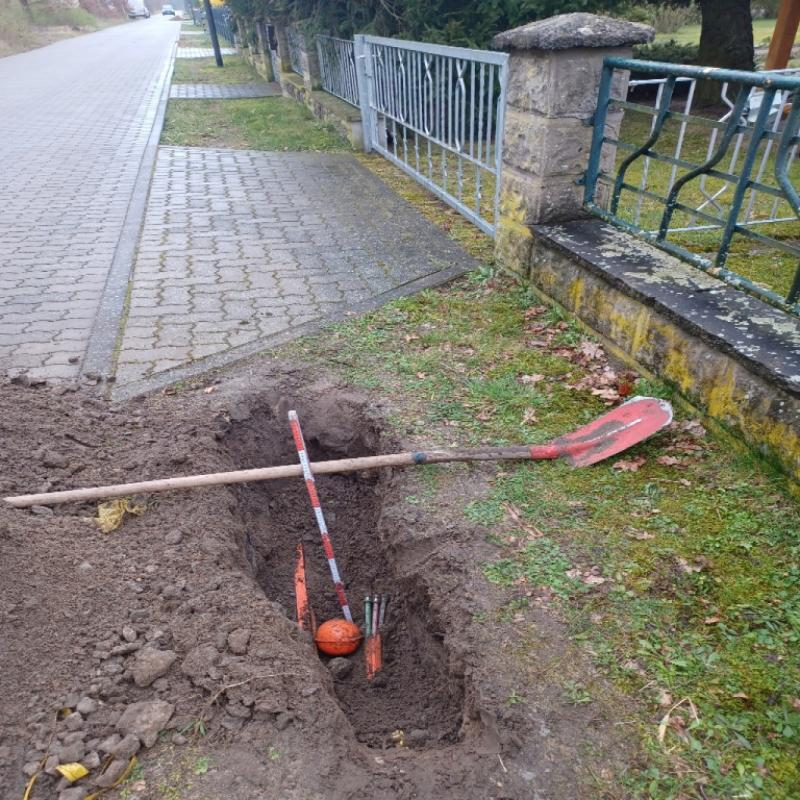Kugelmarker: (315, 618, 361, 654)
Orang-Speednetrohrchen: (292, 543, 313, 627), (366, 633, 384, 673)
